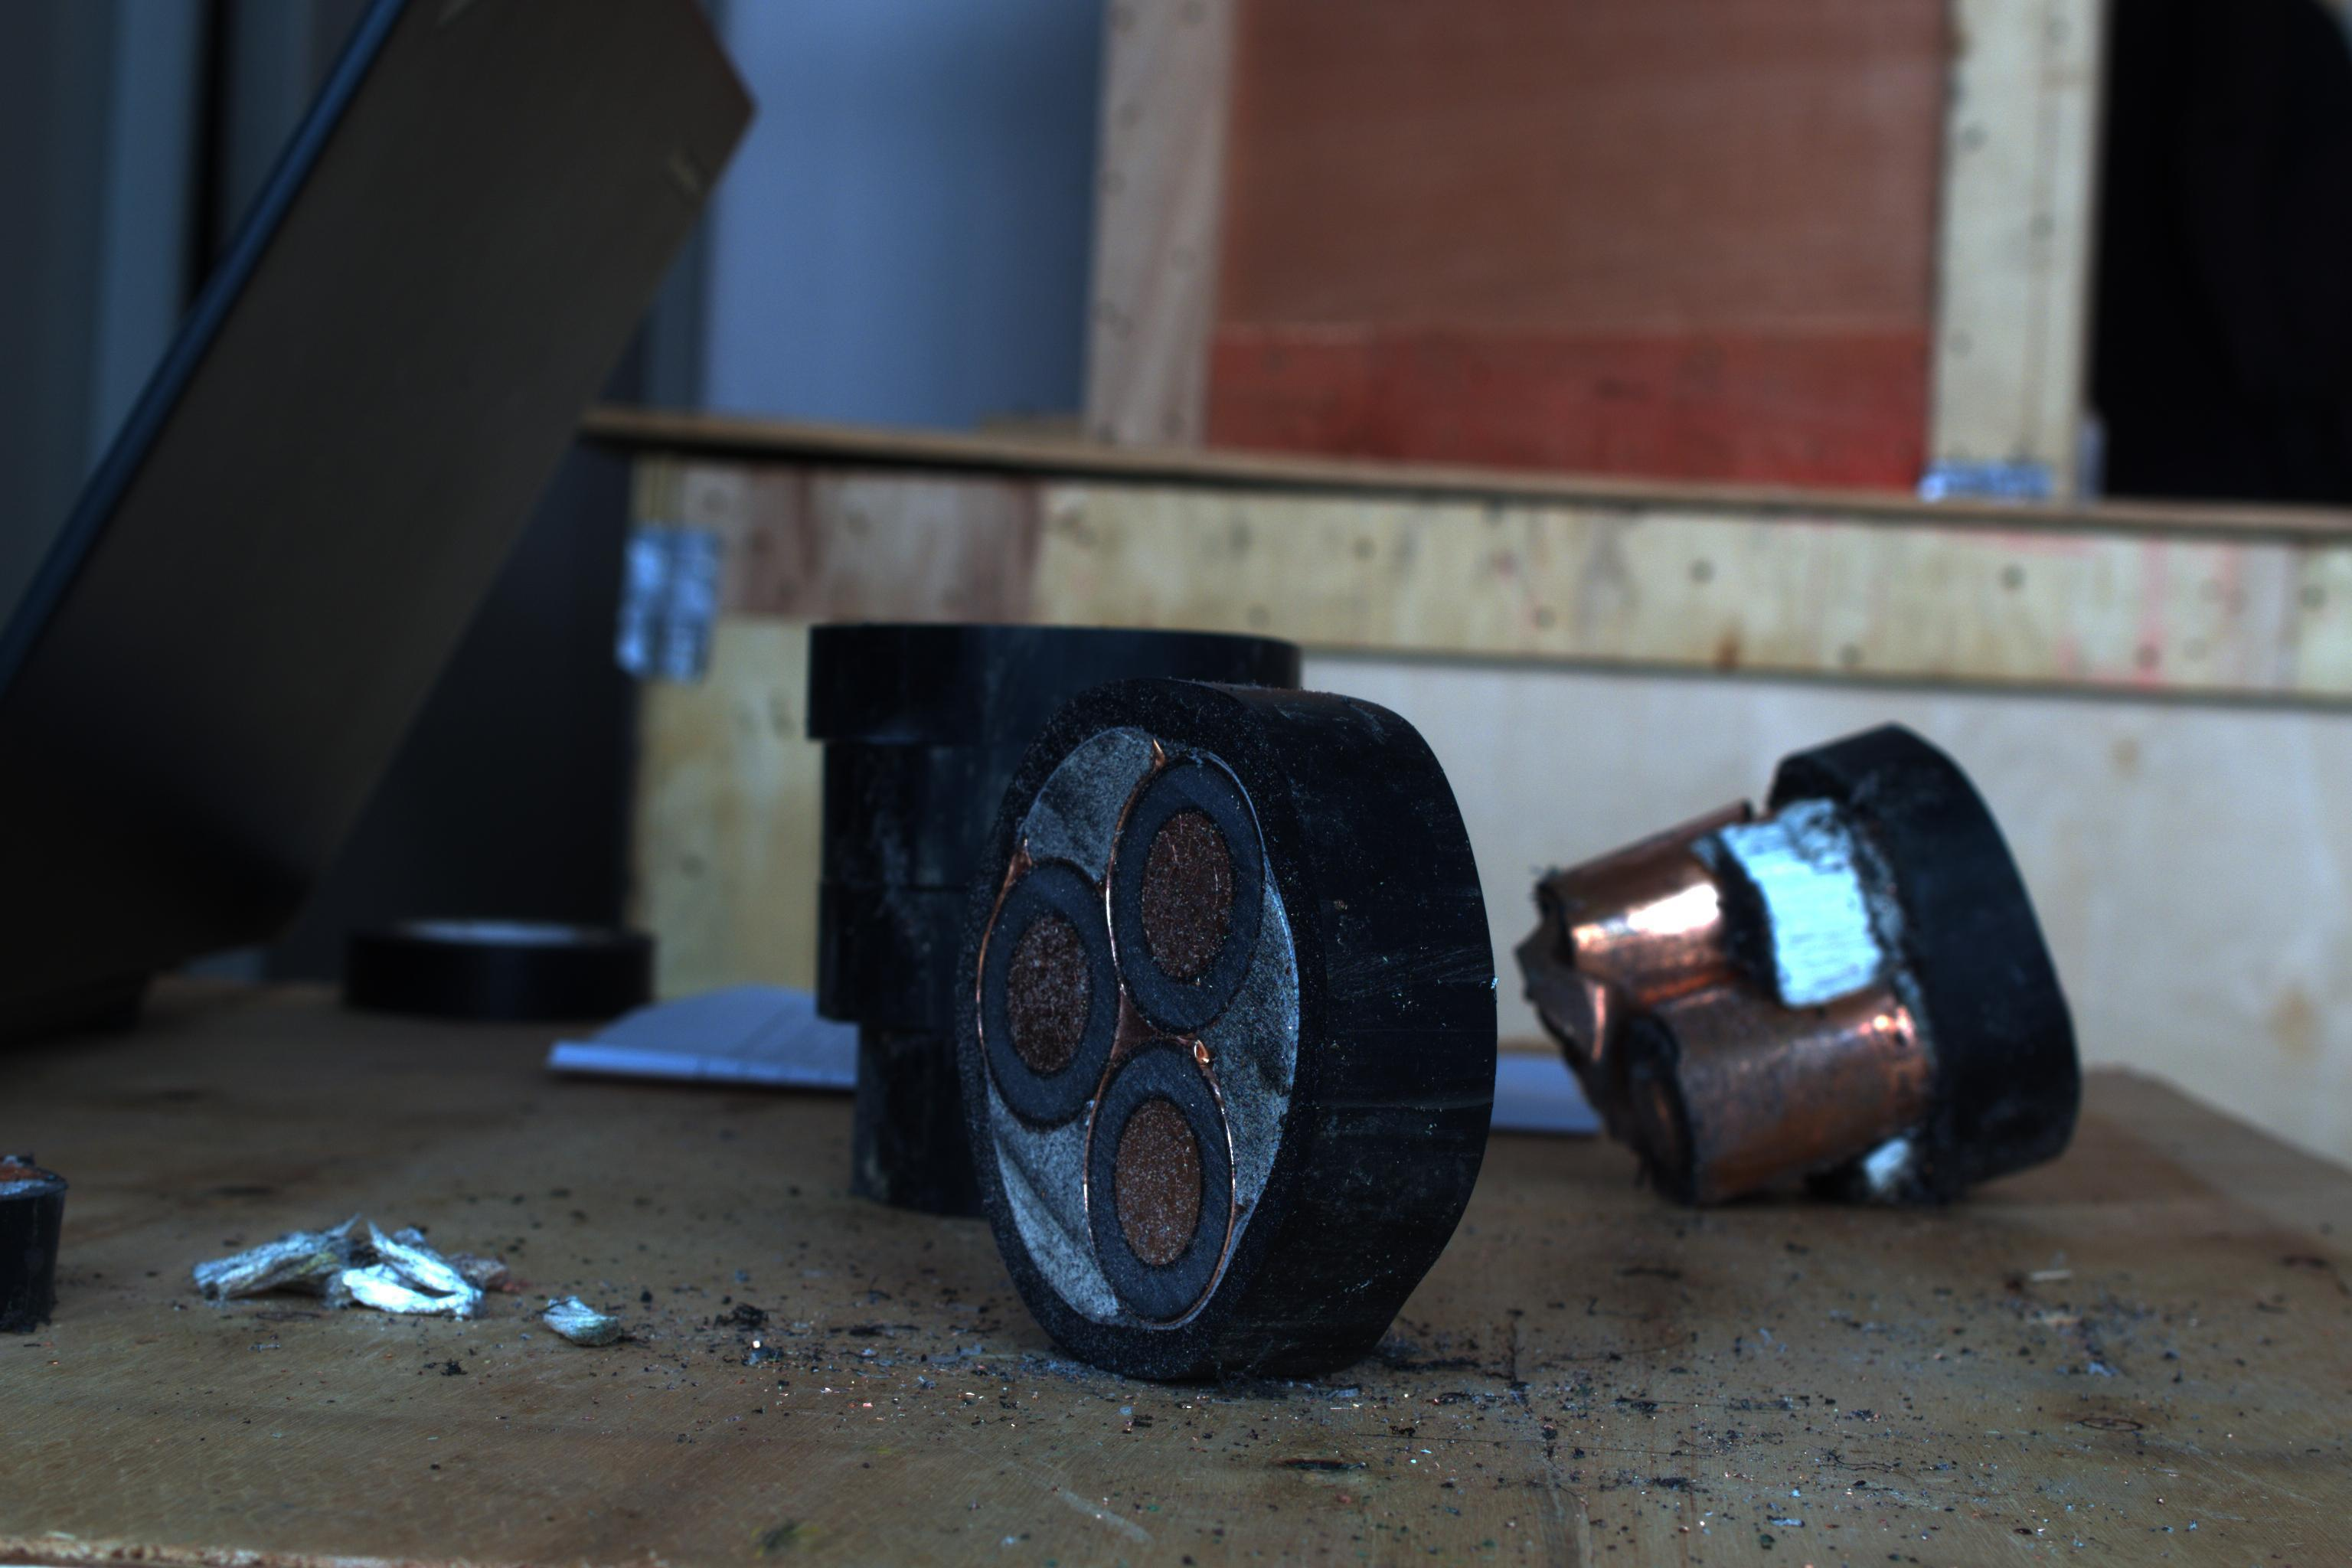ZA_YJV_8.7_10kV_3x240: (962, 675, 1304, 1335)
